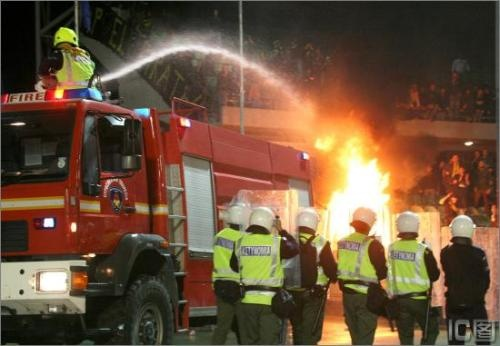fire: (312, 133, 403, 248)
